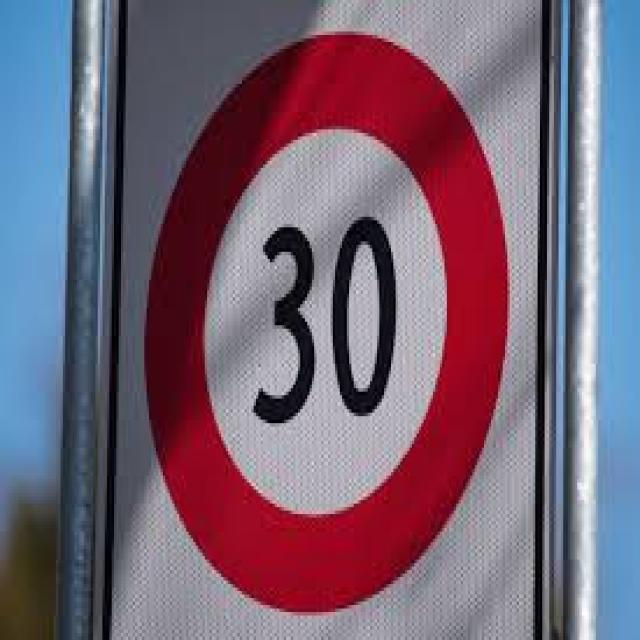Speed limit 30: (141, 26, 513, 617)
